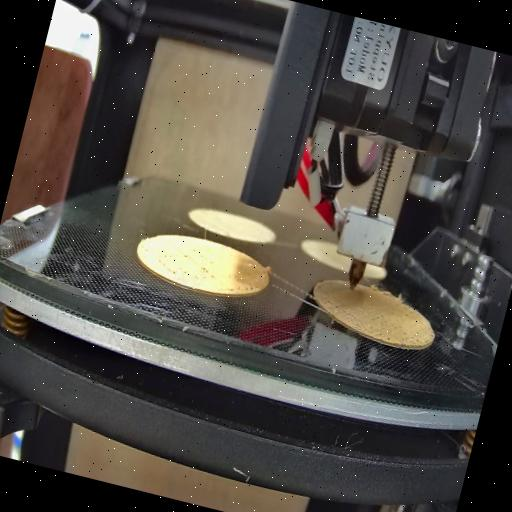under_extrusion: (150, 248, 257, 298), (366, 311, 436, 355), (332, 300, 342, 314)
